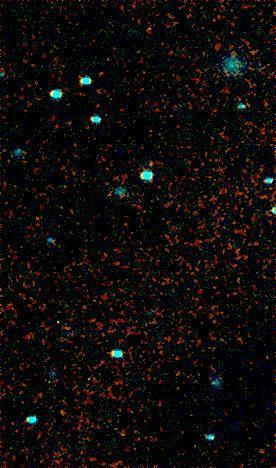star: (137, 148, 167, 178)
